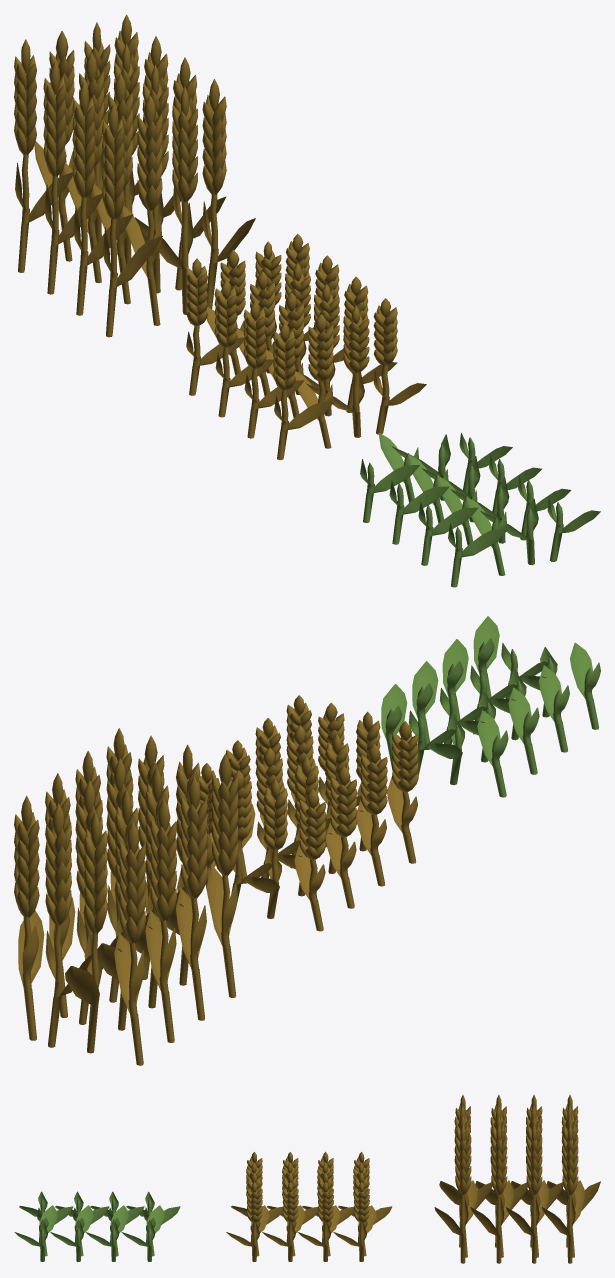
Rendered from wheat1.glb.
3 views of the same model, one above another, from view 1: azimuth 30°, elevation 25°; view 2: azimuth 150°, elevation 25°; view 3: azimuth 270°, elevation 25° (orthographic). The views are drawn at different scales.
Visible parts, largest first — view 1: Cube, Cube.002, Cube.001; view 2: Cube, Cube.002, Cube.001; view 3: Cube, Cube.002, Cube.001.
Boxes of the visible parts, x1,y1,x2,y2 form: Cube: (14, 14, 255, 337); Cube.002: (185, 234, 426, 459); Cube.001: (360, 432, 600, 587); Cube: (14, 728, 238, 1065); Cube.002: (199, 695, 418, 931); Cube.001: (381, 616, 600, 797); Cube: (434, 1094, 600, 1263); Cube.002: (226, 1151, 392, 1261); Cube.001: (14, 1191, 180, 1261).
Bounding box in the file's own units: 8.26 × 13.9 × 52.73.
